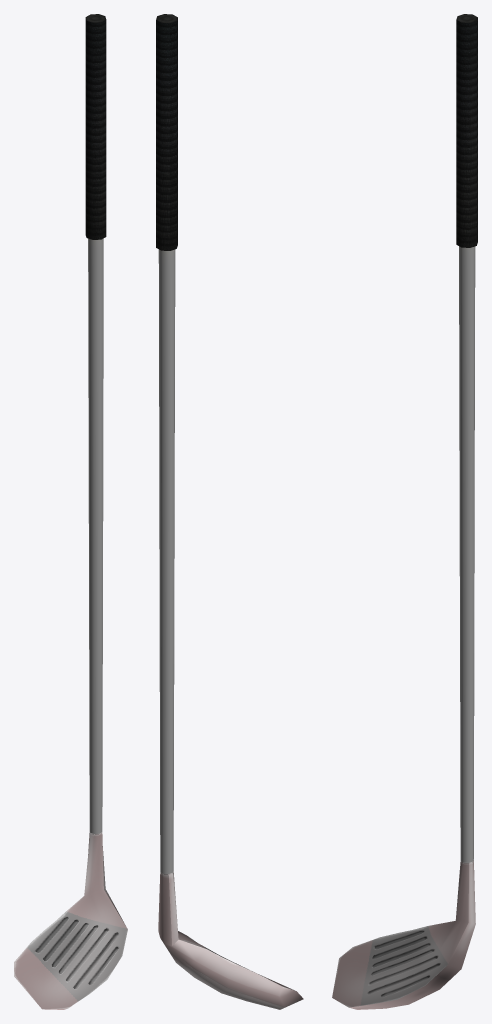
File: Wedge_35_56_63.FBX
The picture shows the model from 3 angles, left to right: view 1: azimuth 30°, elevation 25°; view 2: azimuth 150°, elevation 25°; view 3: azimuth 330°, elevation 25°; orthographic projection. The views are drawn at different scales.
Parts seen in each view (by area): view 1: Wedge/35/56/63.5; view 2: Wedge/35/56/63.5; view 3: Wedge/35/56/63.5.
Part boxes in pixels (x1,y1,x2,y2): Wedge/35/56/63.5: (14, 14, 127, 1009); Wedge/35/56/63.5: (156, 14, 303, 1009); Wedge/35/56/63.5: (332, 14, 477, 1009).
Bounding box in the file's own units: 4.64 × 36.61 × 3.4.
